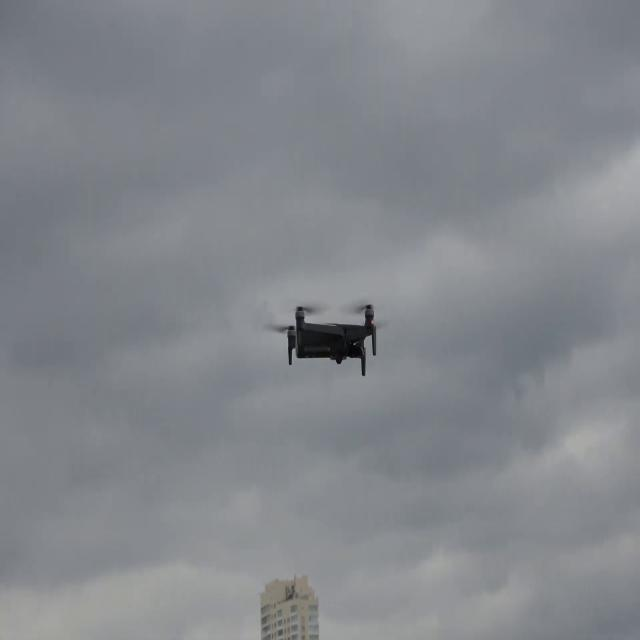Drons: (264, 297, 382, 378)
